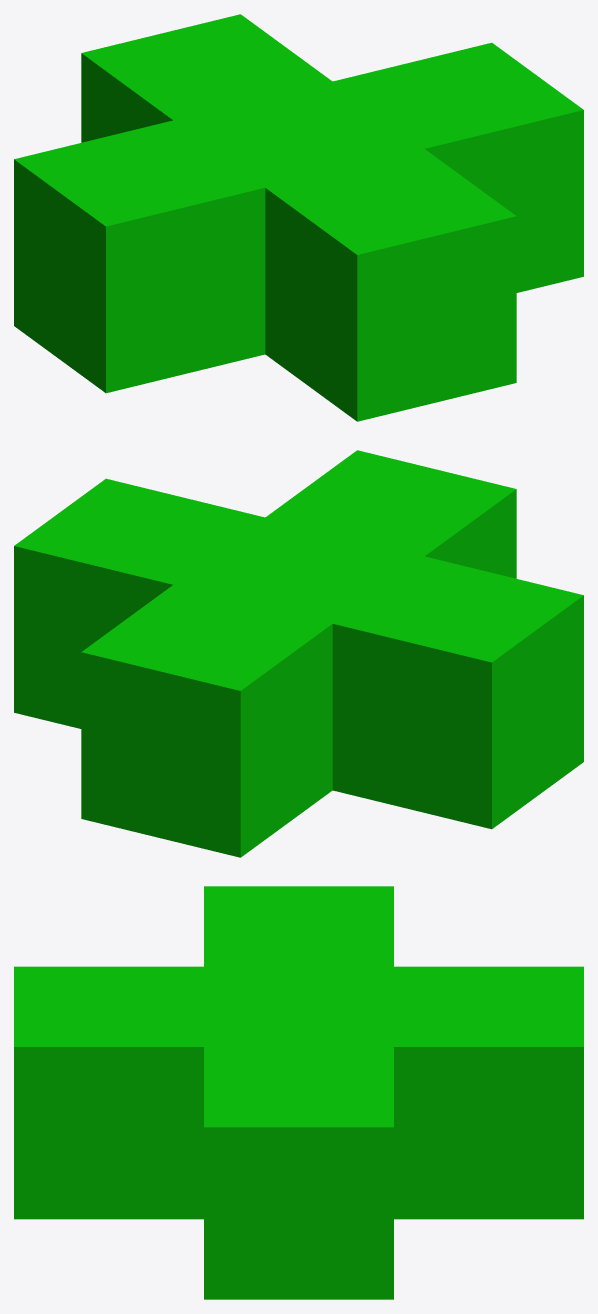
File: cross2.obj
The picture shows the model from 3 angles, top to bottom: view 1: azimuth 30°, elevation 25°; view 2: azimuth 150°, elevation 25°; view 3: azimuth 270°, elevation 25°; orthographic projection. The views are drawn at different scales.
Visible parts, largest first — view 1: ColobotMesh_1_ColobotMesh_; view 2: ColobotMesh_1_ColobotMesh_; view 3: ColobotMesh_1_ColobotMesh_.
Boxes of the visible parts, bbox=[...] form: ColobotMesh_1_ColobotMesh_: bbox=[14, 14, 583, 421]; ColobotMesh_1_ColobotMesh_: bbox=[14, 450, 583, 857]; ColobotMesh_1_ColobotMesh_: bbox=[14, 886, 583, 1299].
Bounding box in the file's own units: 2.97 × 0.9901 × 2.97.
